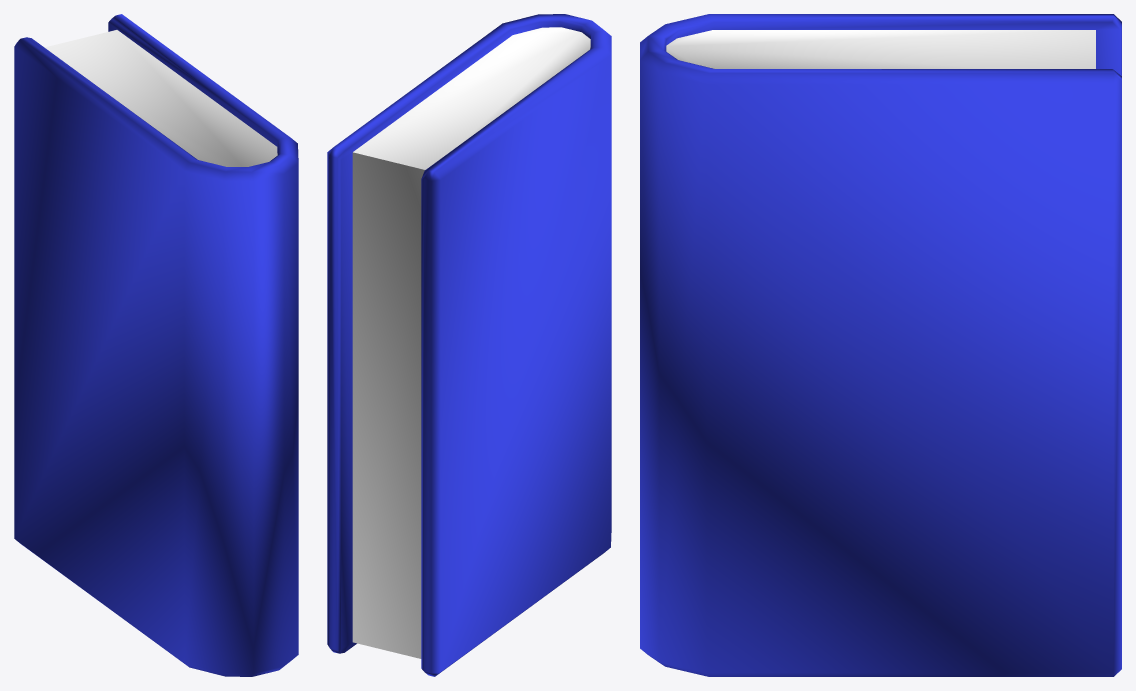
The model's file is Book2.fbx.
3 views of the same model, side by side, from view 1: azimuth 30°, elevation 25°; view 2: azimuth 150°, elevation 25°; view 3: azimuth 270°, elevation 25° (orthographic). The views are drawn at different scales.
Parts seen in each view (by area): view 1: Book2; view 2: Book2; view 3: Book2.
Boxes of the visible parts, box(x1,y1,x2,y2) form: Book2: box(14, 14, 298, 676); Book2: box(327, 14, 611, 676); Book2: box(640, 14, 1121, 676).
Bounding box in the file's own units: 0.1046 × 0.3215 × 0.4444.
